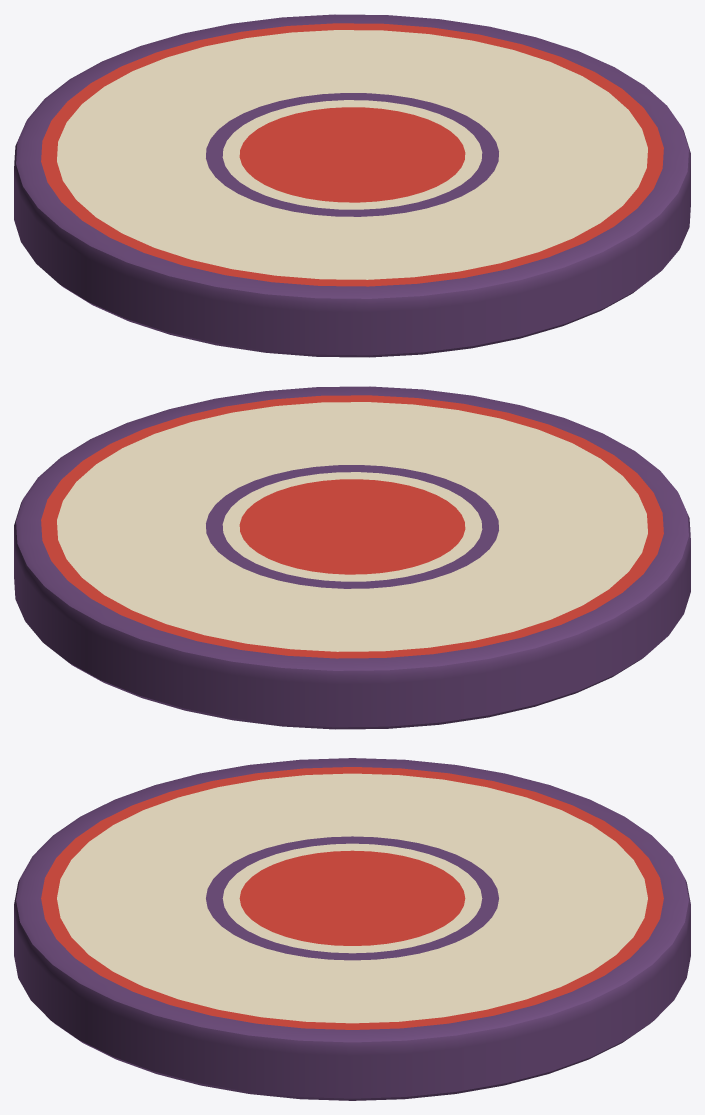
The model's file is sumo_core.glb.
The picture shows the model from 3 angles, top to bottom: view 1: azimuth 30°, elevation 25°; view 2: azimuth 150°, elevation 25°; view 3: azimuth 270°, elevation 25°; orthographic projection.
Parts seen in each view (by area): view 1: sumo_core; view 2: sumo_core; view 3: sumo_core.
Part boxes in pixels (x1,y1,x2,y2): sumo_core: (14, 14, 690, 357); sumo_core: (14, 386, 690, 729); sumo_core: (14, 758, 690, 1100).
Bounding box in the file's own units: 6 × 0.6 × 6.
